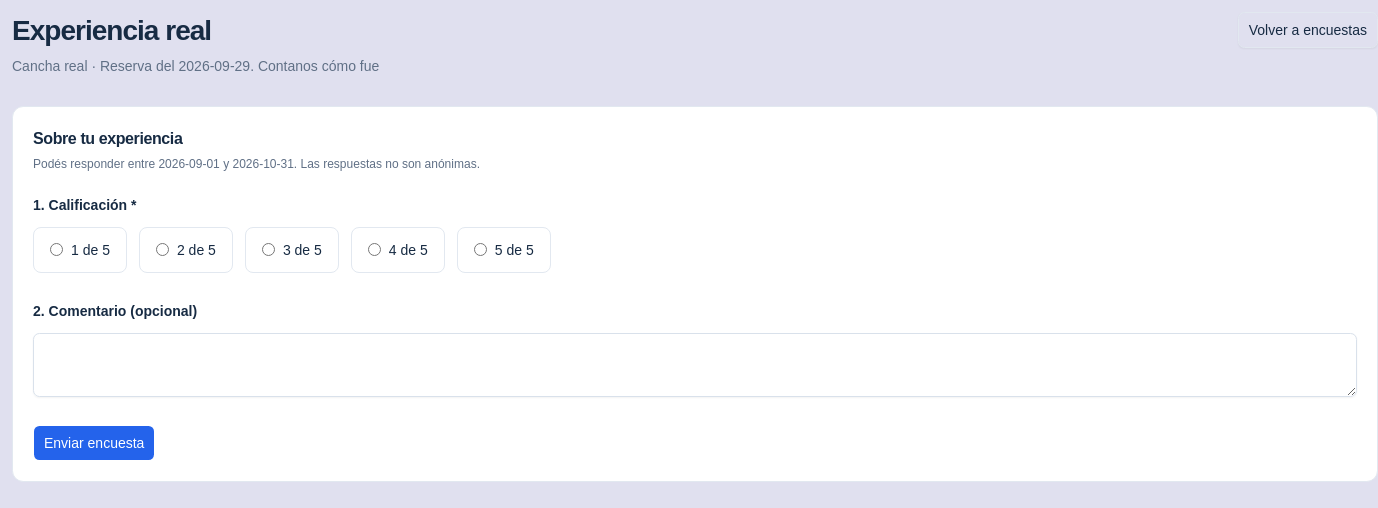
Scenario: Reportes y encuestas conectados › persiste respuestas por reserva y muestra la confirmación del servidor
Click the radio button labelled "4 de 5": (374, 250) x1=368 y1=243 x2=381 y2=256
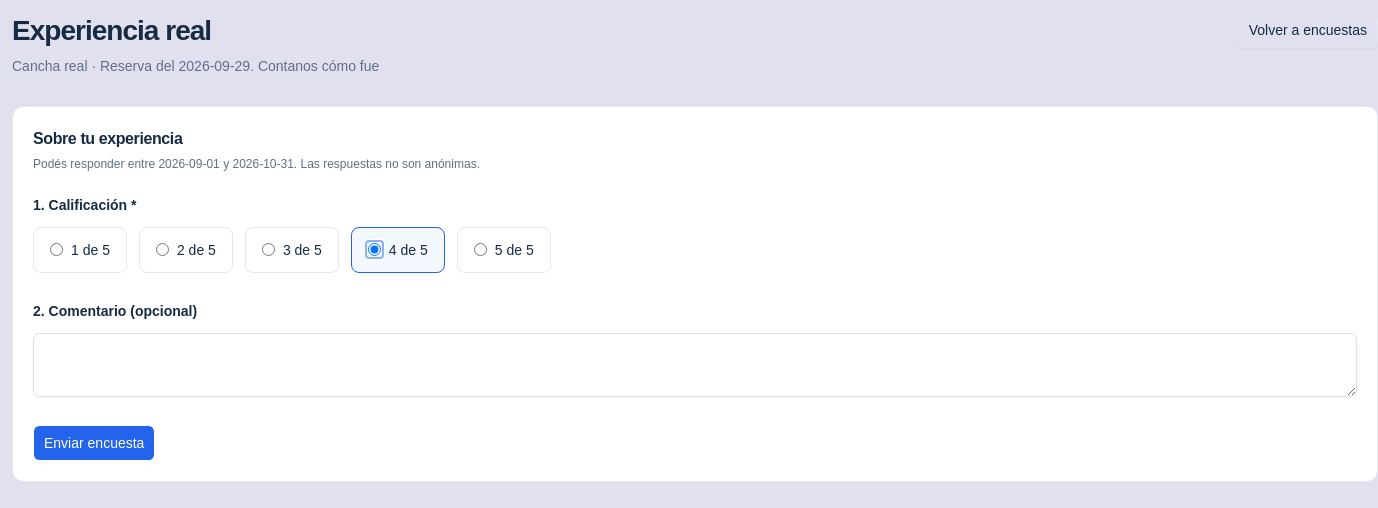
In the text box named "Comentario": (695, 365) x1=33 y1=333 x2=1357 y2=397, type "Me gustó"
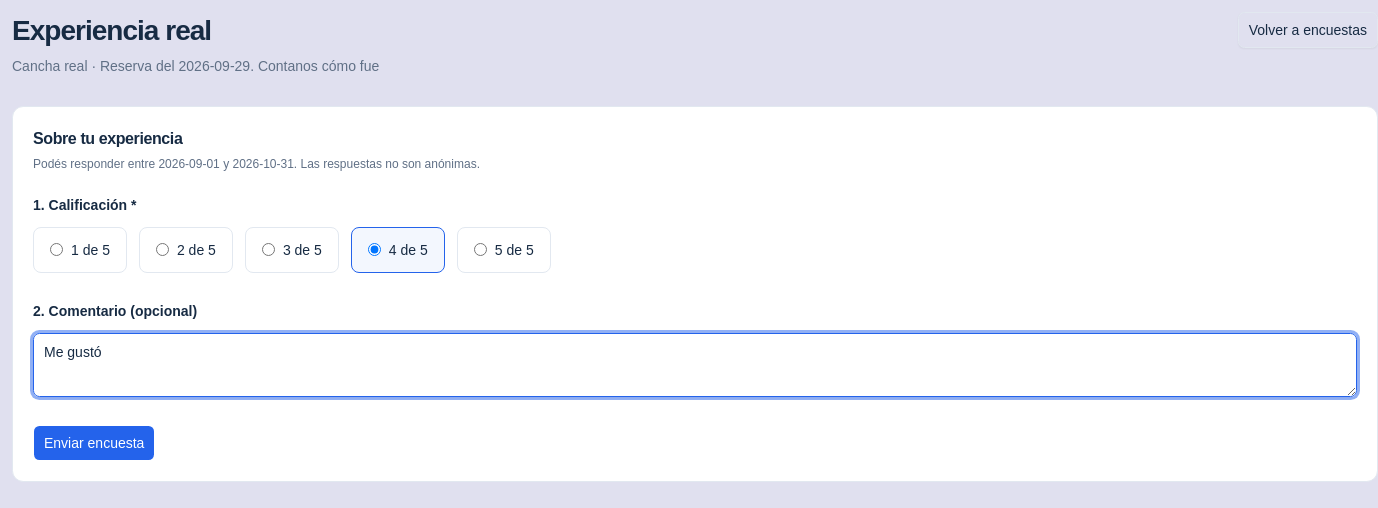
Click the button "Enviar encuesta": (94, 443) x1=33 y1=425 x2=155 y2=461
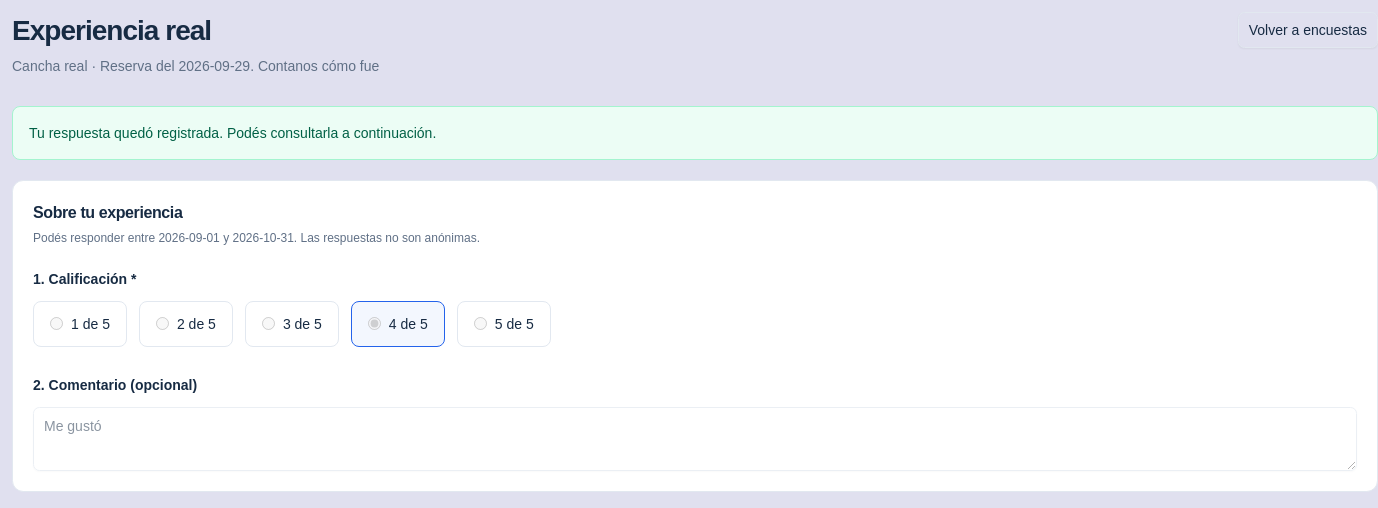
Now the text "Tu respuesta quedó registrada. Podés consultarla a continuación." is shown, box x1=12 y1=106 x2=1377 y2=160
Now the button "Enviar encuesta" is gone
